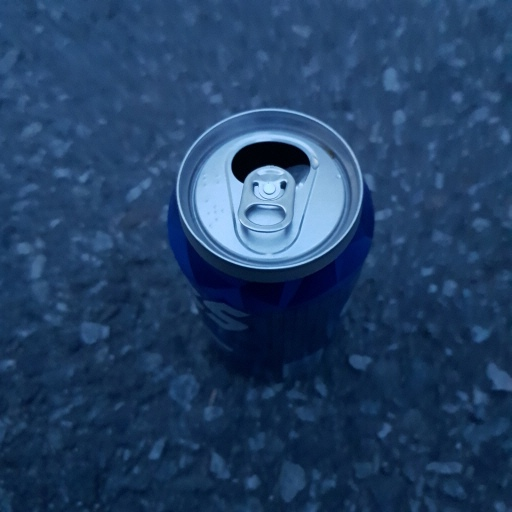Metal_0: (157, 104, 377, 363)
